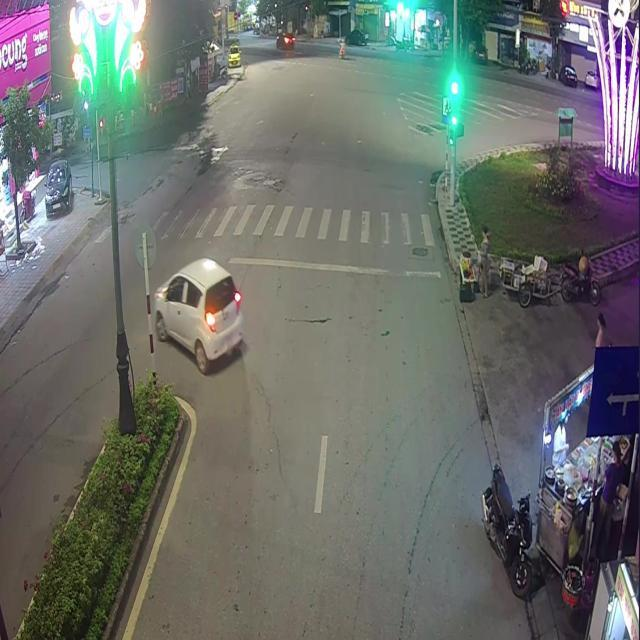car: (154, 257, 242, 373), (275, 32, 295, 50)
green_light: (450, 92, 457, 125)
motobike: (480, 475, 532, 597)
stop_line: (226, 256, 440, 277)
